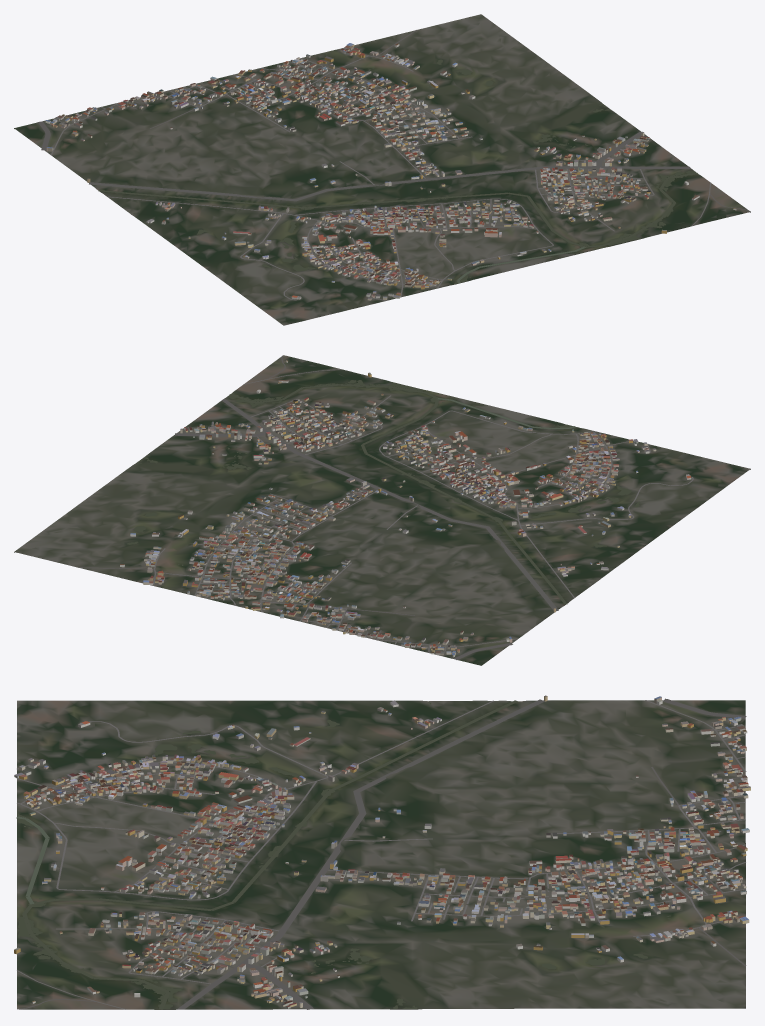
The picture shows the model from 3 angles, top to bottom: view 1: azimuth 30°, elevation 25°; view 2: azimuth 150°, elevation 25°; view 3: azimuth 270°, elevation 25°; orthographic projection. The views are drawn at different scales.
Visible parts, largest first — view 1: ground, buildings, roads, water; view 2: ground, buildings, roads, water; view 3: ground, buildings, roads, water.
Boxes of the visible parts, box(x1,y1,x2,y2) form: ground: box(14, 14, 750, 325); buildings: box(45, 43, 736, 300); roads: box(38, 30, 750, 300); water: box(98, 59, 697, 286); ground: box(14, 355, 750, 665); buildings: box(120, 360, 691, 657); roads: box(78, 355, 693, 659); water: box(127, 380, 640, 604); ground: box(17, 700, 745, 1009); buildings: box(14, 695, 750, 1008); roads: box(17, 698, 746, 1009); water: box(16, 700, 670, 1009).
Bounding box in the file's own units: 1414 × 20.38 × 1417.
